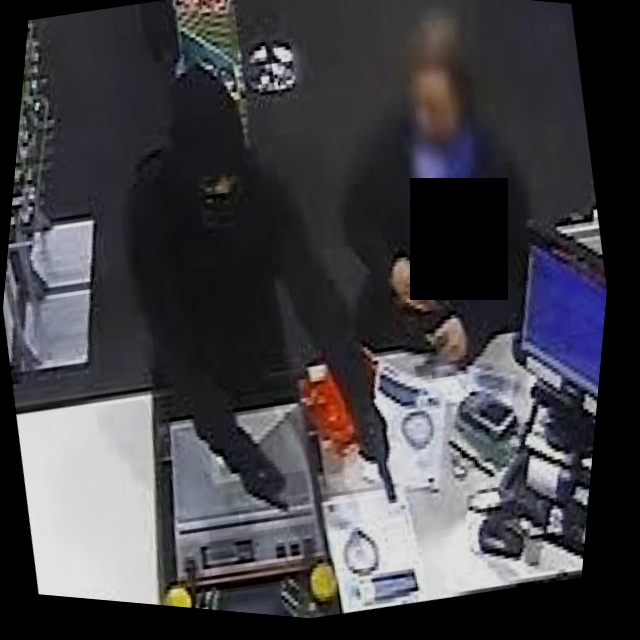gun: (338, 391, 419, 519)
